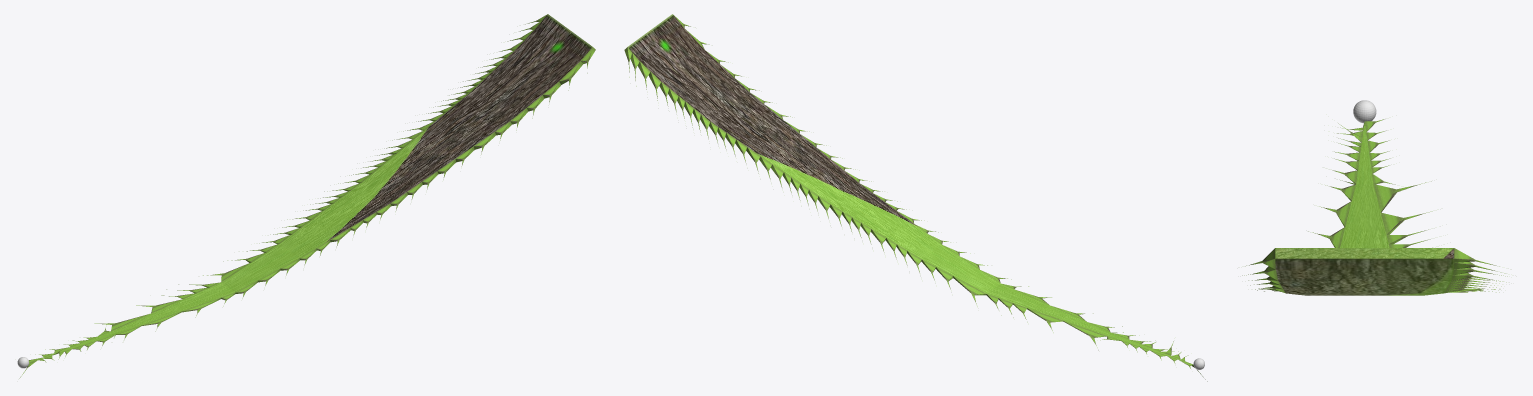
The model's file is ast_ball.dae.
3 views of the same model, side by side, from view 1: azimuth 30°, elevation 25°; view 2: azimuth 150°, elevation 25°; view 3: azimuth 270°, elevation 25° (orthographic). The views are drawn at different scales.
Parts seen in each view (by area): view 1: ast; view 2: ast; view 3: ast, kugel.
Part boxes in pixels (box(x1,y1,x2,y2)): ast: box(19, 14, 595, 378); ast: box(624, 14, 1207, 381); ast: box(1242, 119, 1507, 295); kugel: box(1353, 100, 1376, 123).
Size of the model in its own units: 2.01 by 0.4405 by 0.7414.
1 material, 1 textured.
